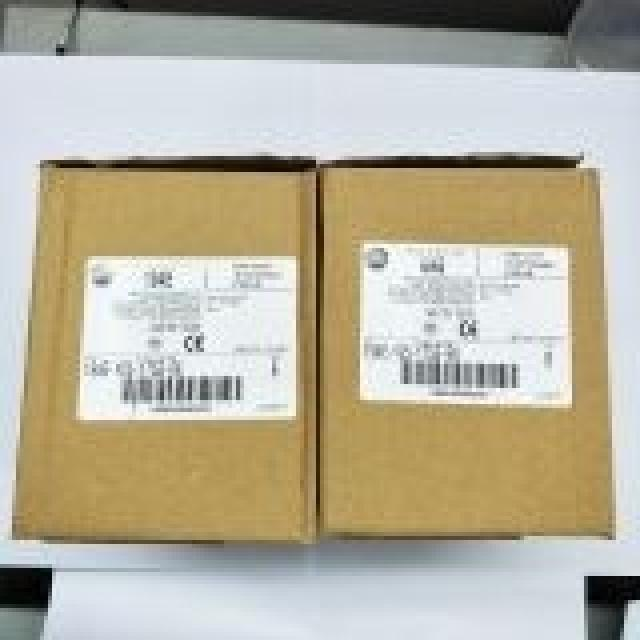Carton: (12, 168, 312, 536), (320, 160, 612, 532)
